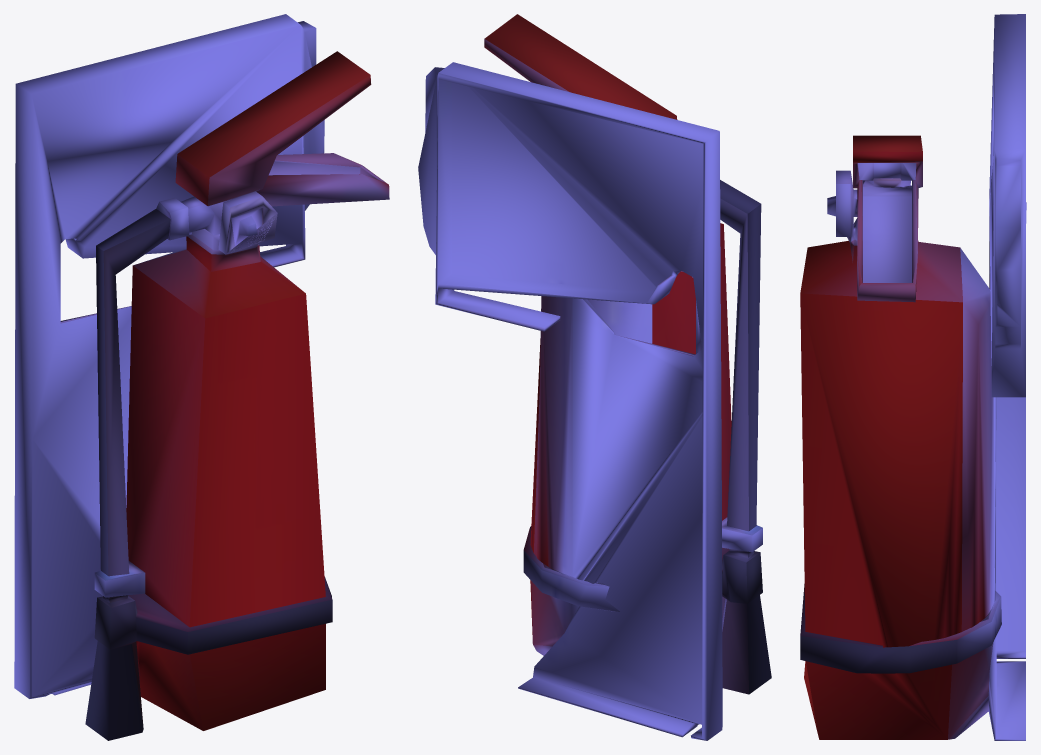
Rendered from model.progressive.glb.
The picture shows the model from 3 angles, left to right: view 1: azimuth 30°, elevation 25°; view 2: azimuth 150°, elevation 25°; view 3: azimuth 270°, elevation 25°; orthographic projection. The views are drawn at different scales.
Visible parts, largest first — view 1: FireExtinguisher4; view 2: FireExtinguisher4; view 3: FireExtinguisher4.
Part boxes in pixels (box(x1,y1,x2,y2)): FireExtinguisher4: box(14, 14, 389, 740); FireExtinguisher4: box(418, 14, 771, 740); FireExtinguisher4: box(800, 14, 1026, 740).
Size of the model in its own units: 0.9647 by 1.9 by 0.6054.
Materials: 1 (1 with a texture image).
